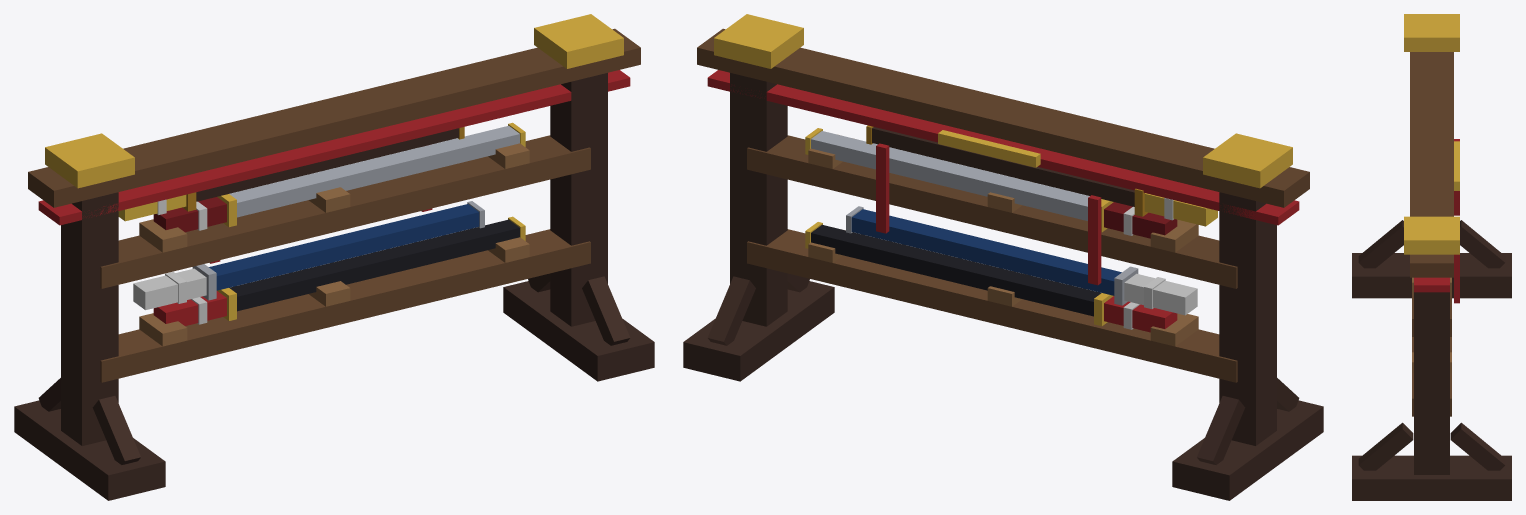
The model's file is Decor_NinjaDojo_Weapons.fbx.
3 renders of one model, left to right at view 1: azimuth 30°, elevation 25°; view 2: azimuth 150°, elevation 25°; view 3: azimuth 270°, elevation 25°, orthographic. The views are drawn at different scales.
Parts seen in each view (by area): view 1: Weapons_Body; view 2: Weapons_Body; view 3: Weapons_Body.
Part boxes in pixels (x1=…): Weapons_Body: x1=14, y1=14, x2=654, y2=500; Weapons_Body: x1=683, y1=14, x2=1323, y2=500; Weapons_Body: x1=1352, y1=14, x2=1511, y2=500.
Bounding box in the file's own units: 14.4 × 7.2 × 4.
